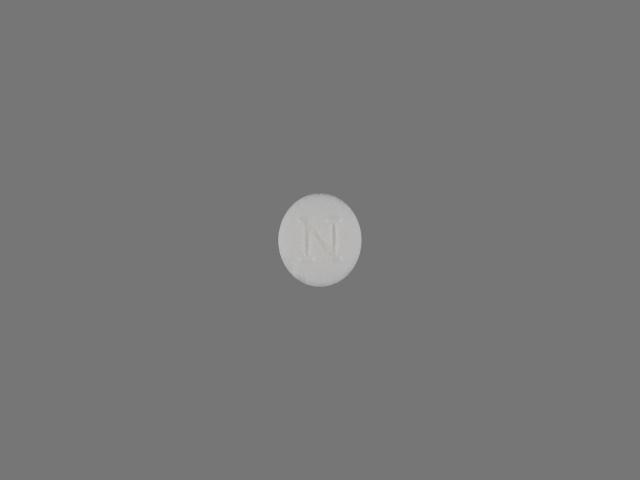N: (296, 212, 344, 273)
